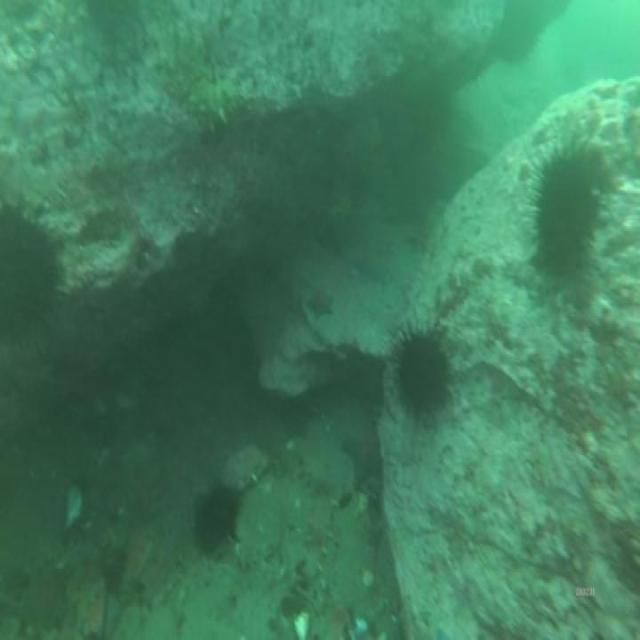echinus: (2, 206, 60, 342), (537, 156, 598, 275), (396, 333, 447, 412), (196, 490, 238, 553)
holothurian: (187, 76, 246, 129), (304, 496, 334, 582), (282, 452, 320, 510)
starfish: (344, 427, 381, 490), (307, 291, 333, 319)
